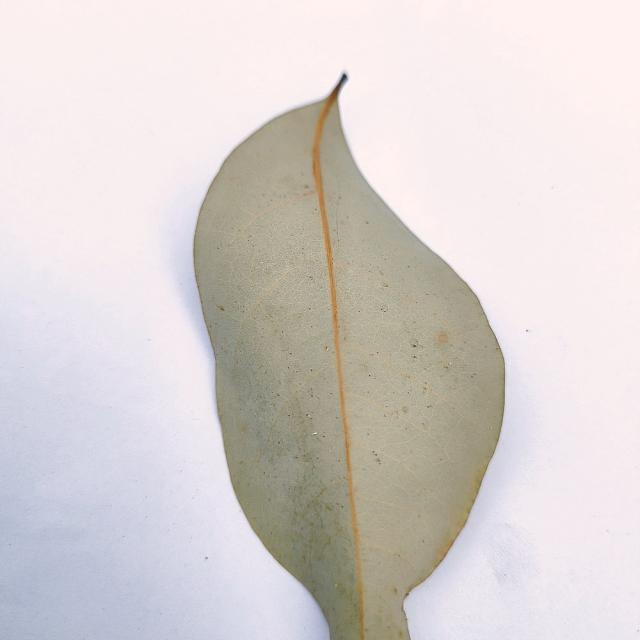Dry_Leaf-Lychee: (191, 78, 507, 639)
